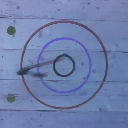Axe Tip: (21, 68, 30, 70)
